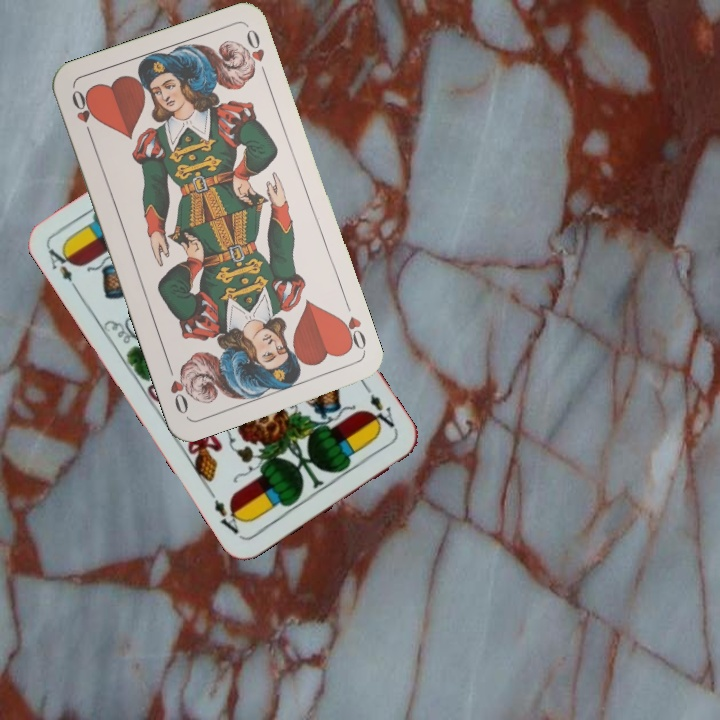EA: (360, 382, 401, 435), (44, 242, 83, 296)
HO: (67, 86, 98, 143), (334, 312, 369, 356)
